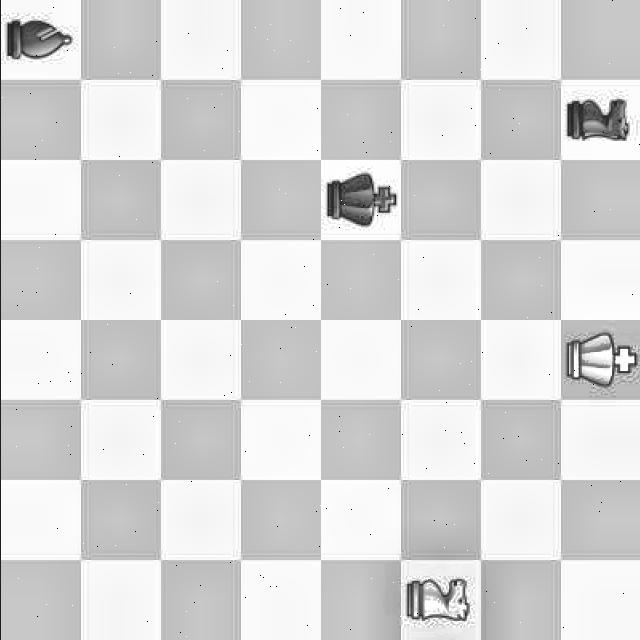Black Knight: (560, 84, 640, 158)
black bishop: (0, 6, 69, 82)
black king: (318, 164, 404, 237)
white king: (565, 328, 640, 397)
whiteknight: (402, 564, 474, 640)
